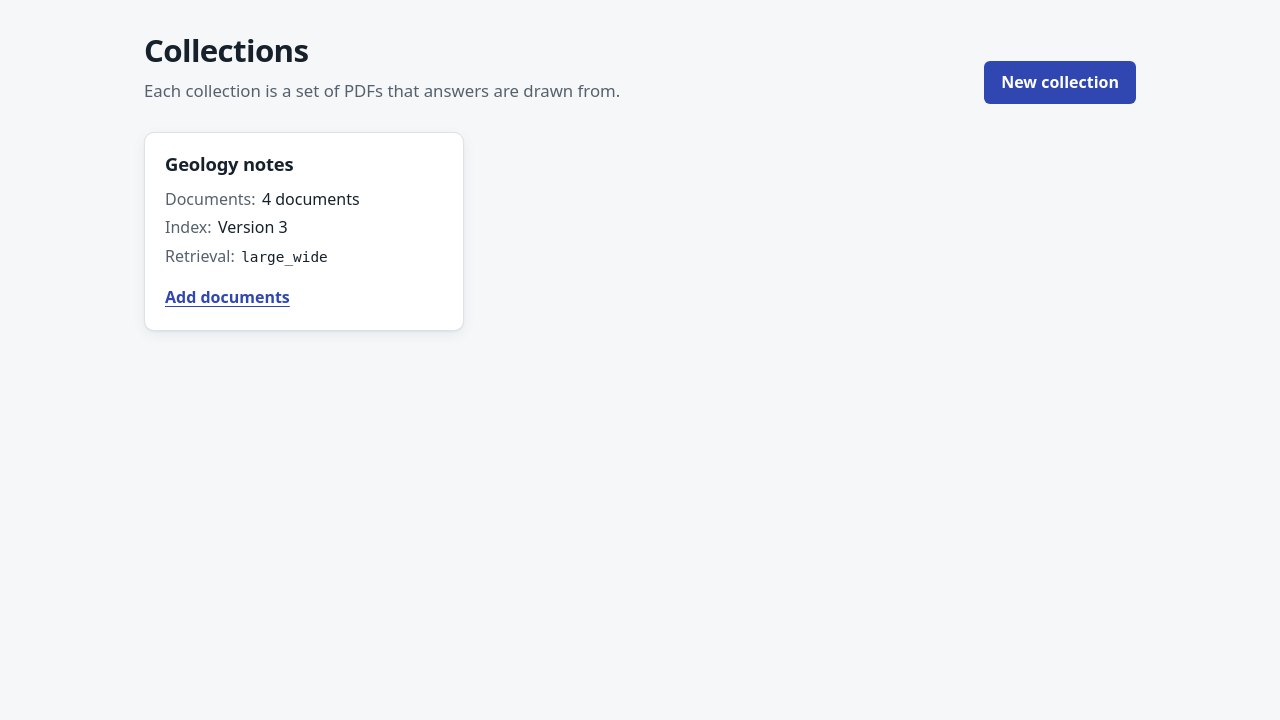
Test: the collections page creates a collection from the modal
Click the button "New collection". click: (1060, 82)
box: [984, 61, 1136, 104]
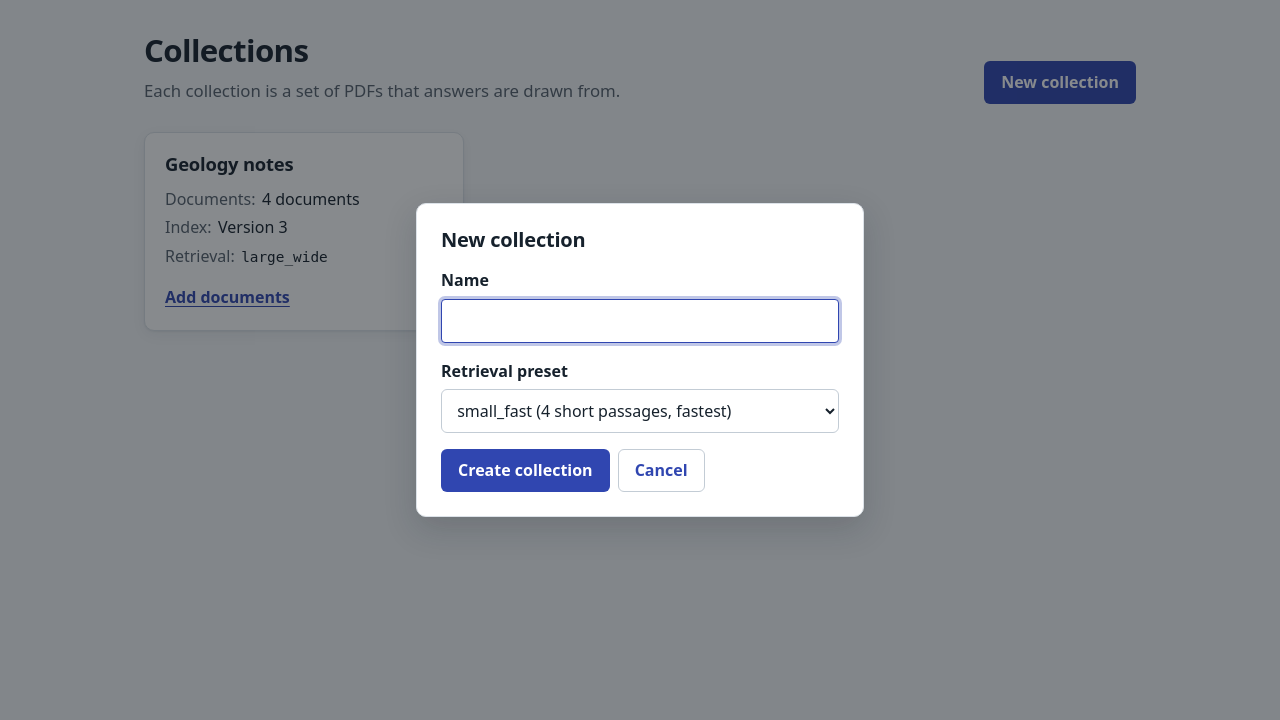
Type "Papers" into the field labelled "Name". click: (640, 321)
box: [441, 299, 839, 343]
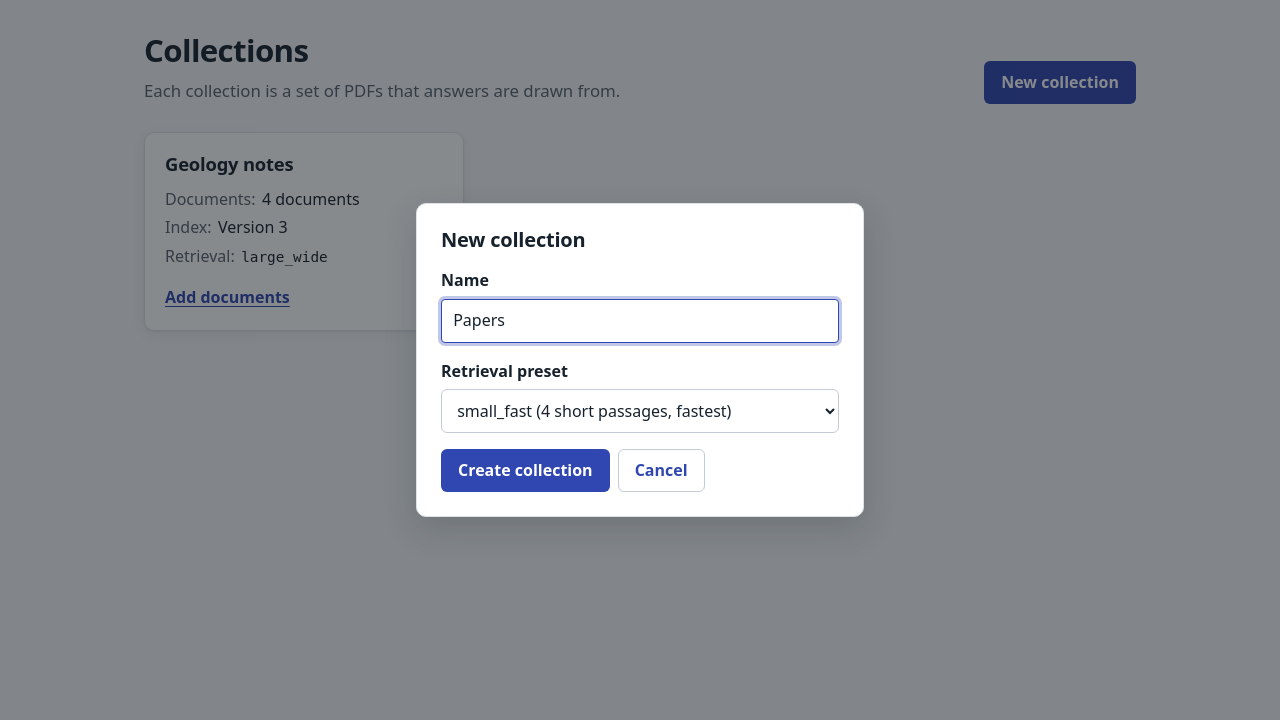
Select "rerank (balanced_rerank: 12 candidates, reranked)" in the dropdown labelled "Retrieval preset". click: (640, 411)
box: [441, 389, 839, 433]
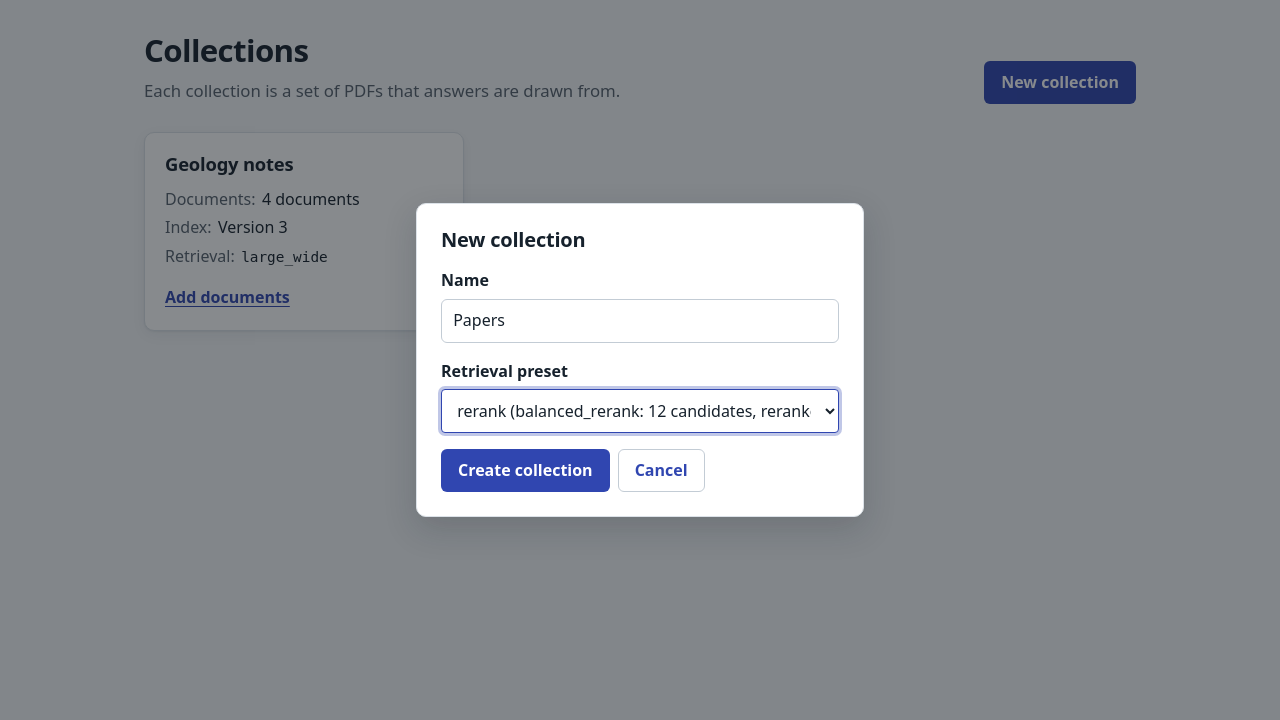
Click the button "Create collection". click: (525, 470)
box: [441, 449, 610, 492]
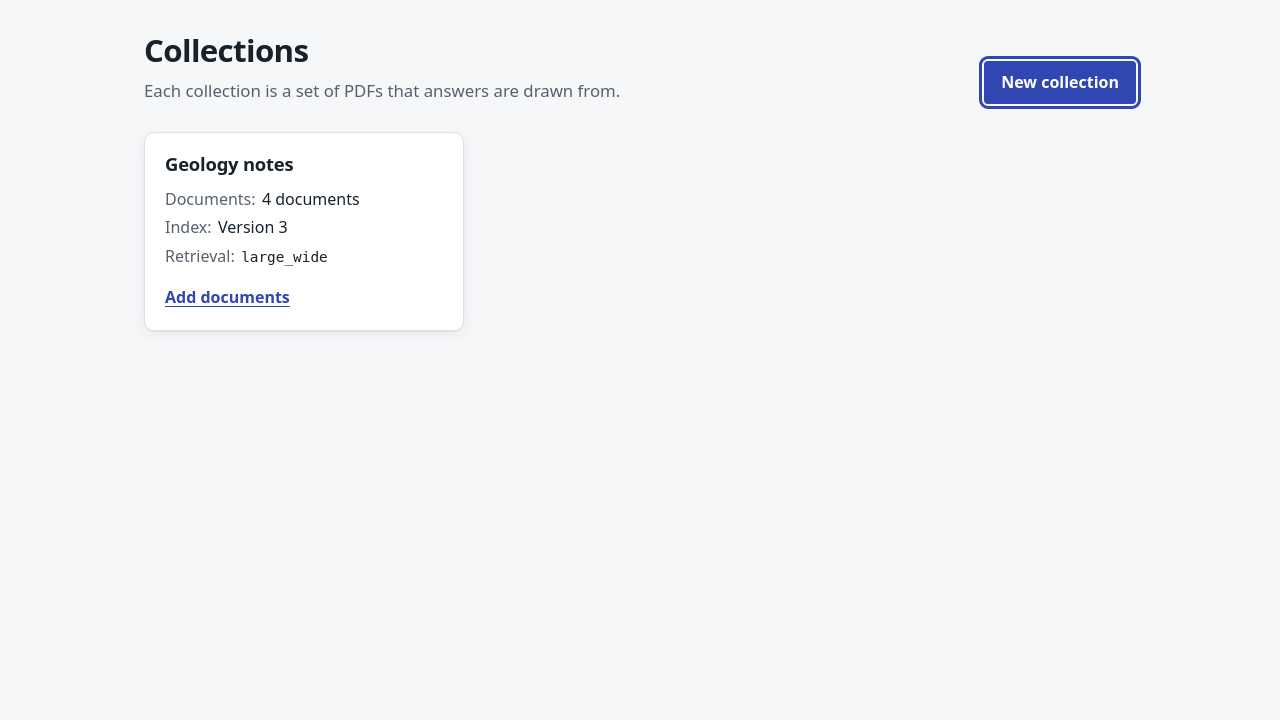
Check: the dialog is gone
